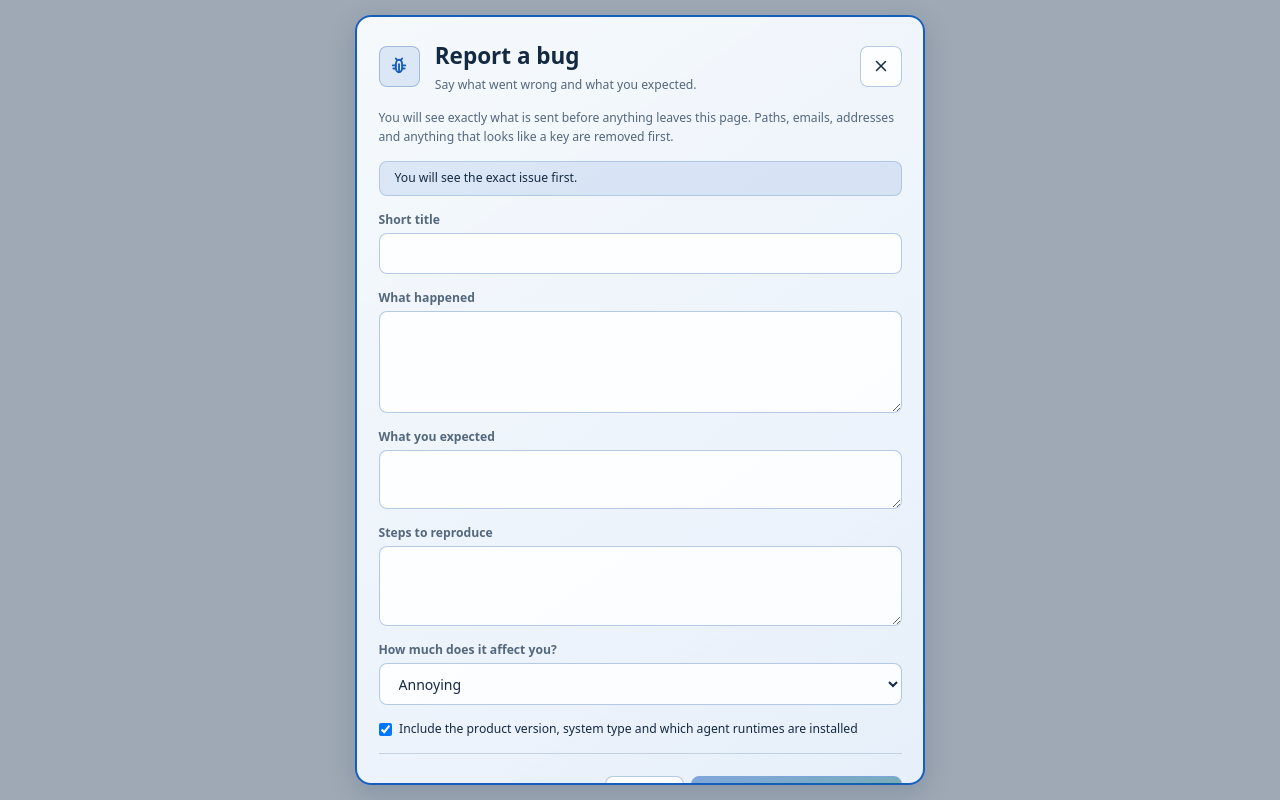
Test: shows how the report will be sent and sends nothing until the person previews and confirms
The width and height of the screenshot is (1280, 800).
In the field labelled "Short title": point(640, 254) [378,233,902,274], type "Delete is greyed out"
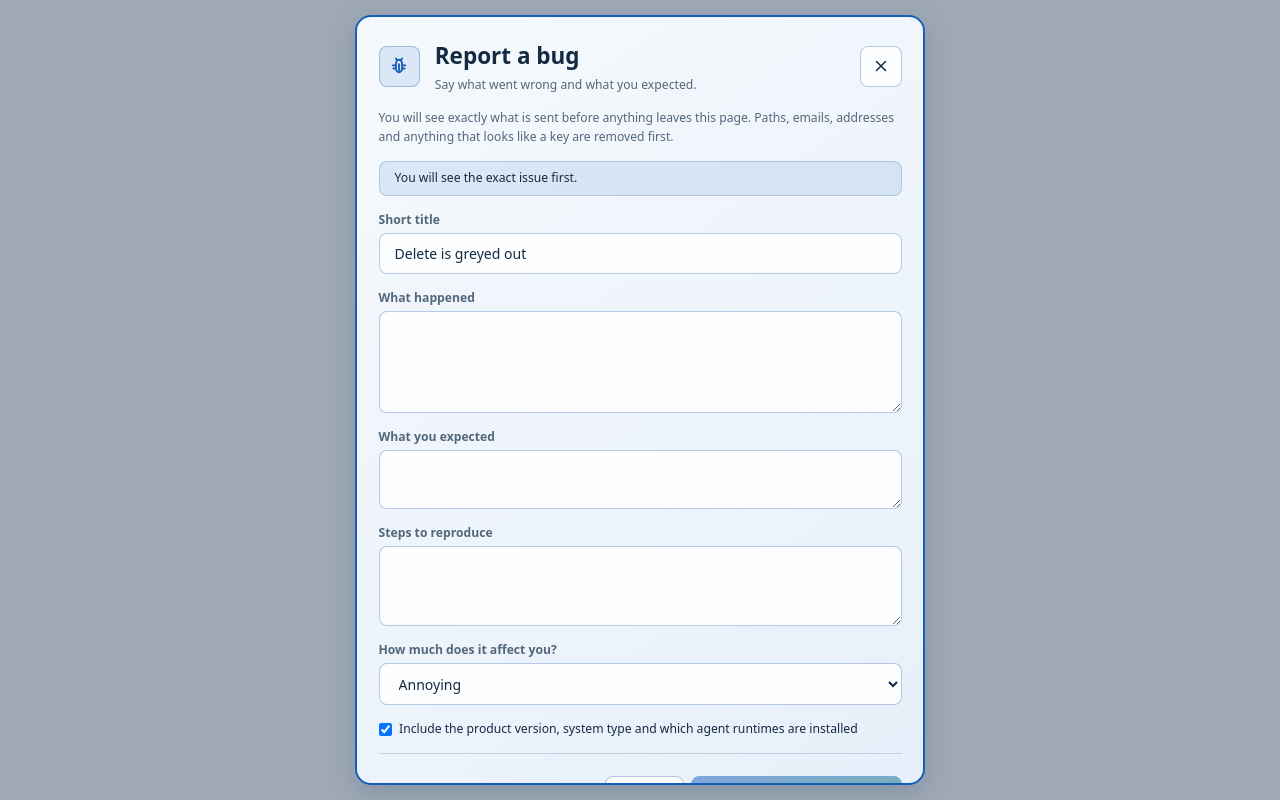
In the text box labelled "What happened": point(640, 362) [378,311,902,413], type "The button is disabled."
(page scrolled)
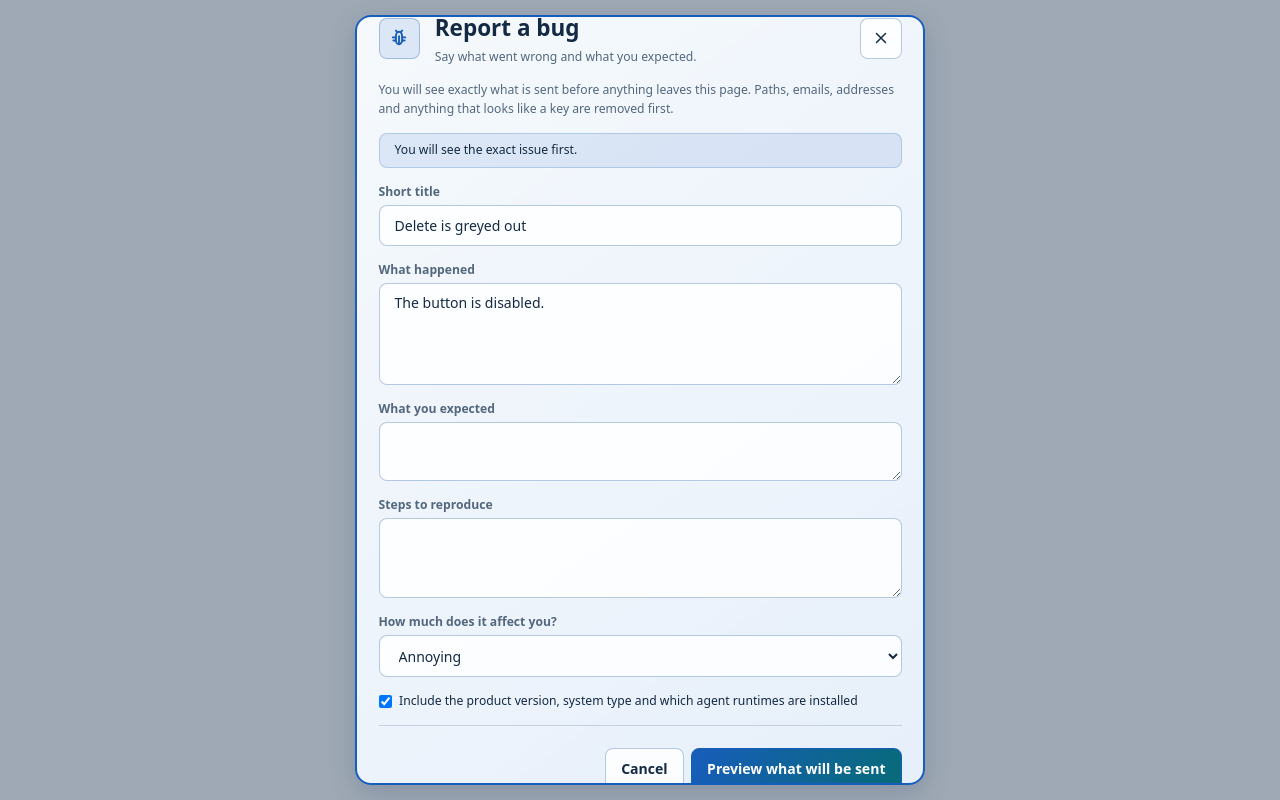
Submit the form
(page scrolled)
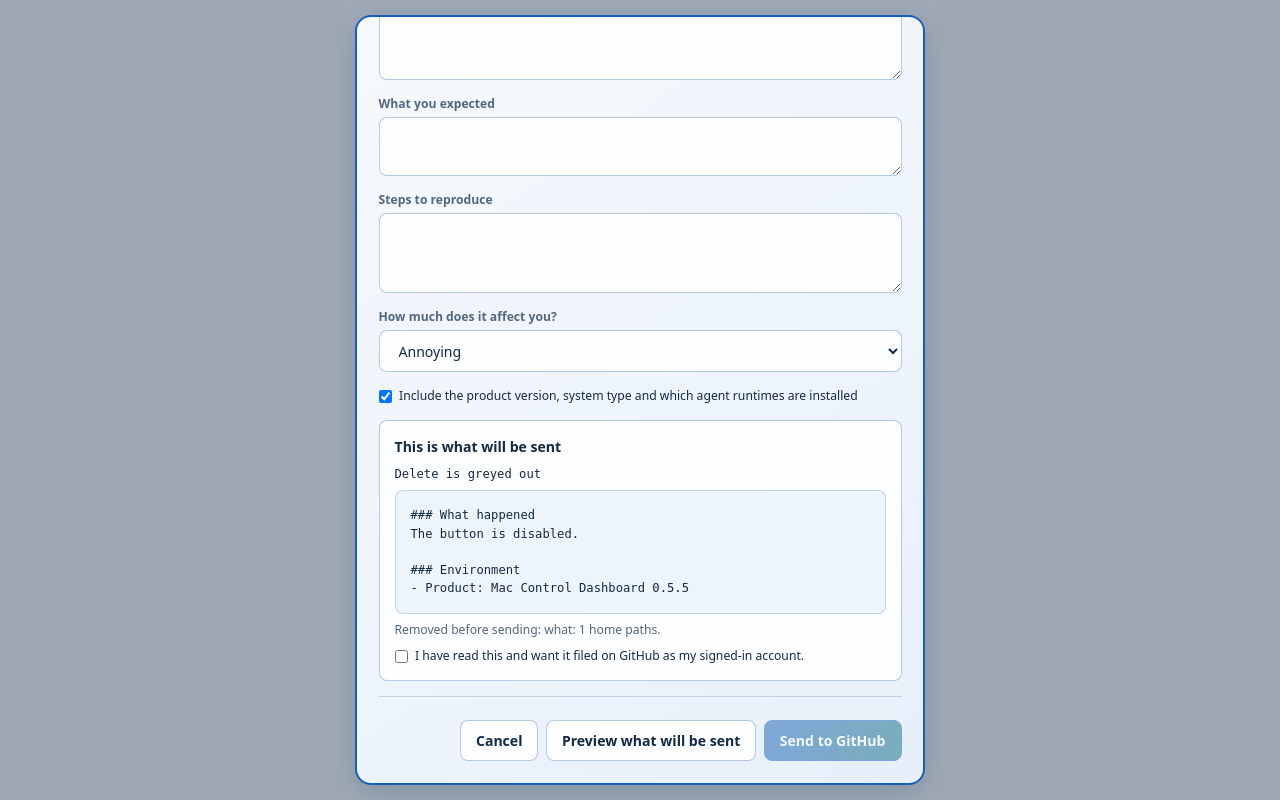
Check: the text with test id "bug-preview-body" shows "### Environment", box [410,508,689,595]
Check: the text with test id "bug-scrubbed" shows "1 home paths", box [394,621,661,638]
Check: the button "Send to GitHub" is disabled, box [764,720,902,761]
Click the 2nd checkbox: point(401, 656) [394,650,408,663]
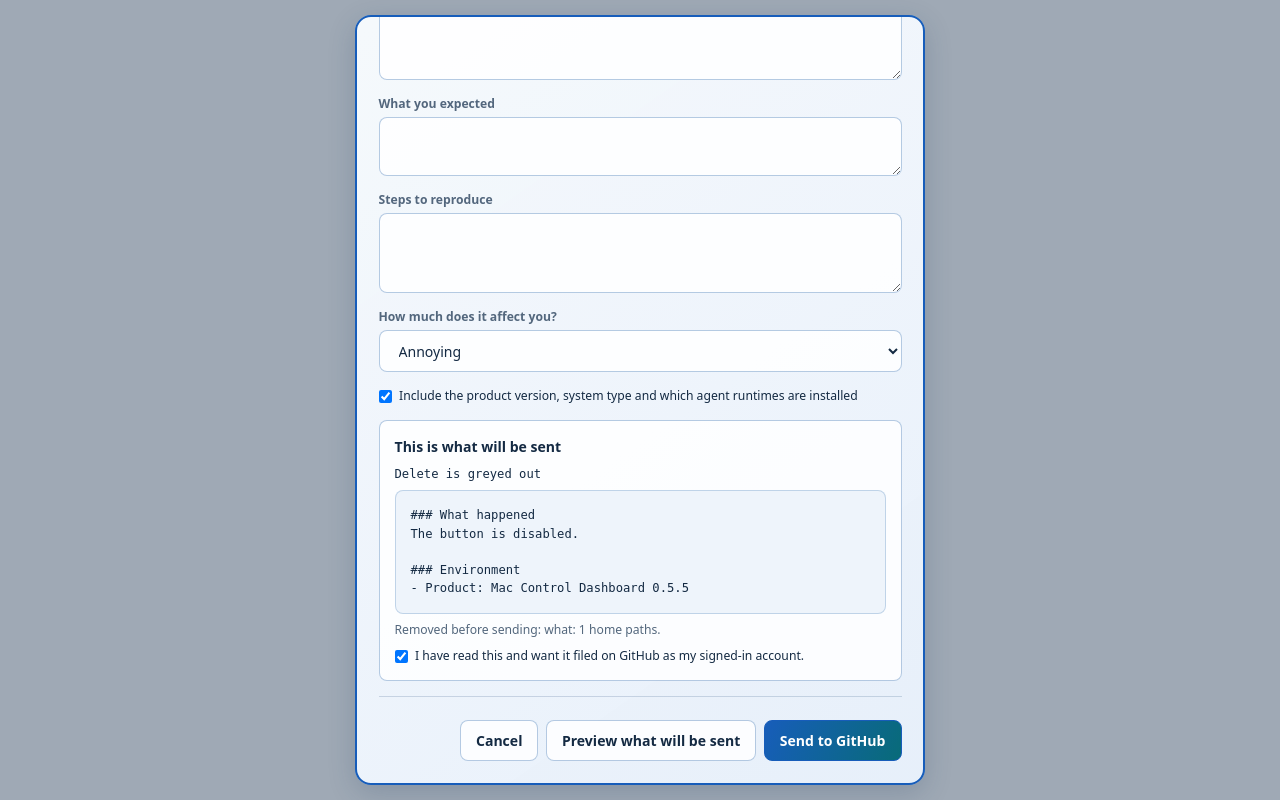
Click the button "Send to GitHub": point(833, 740) [764,720,902,761]
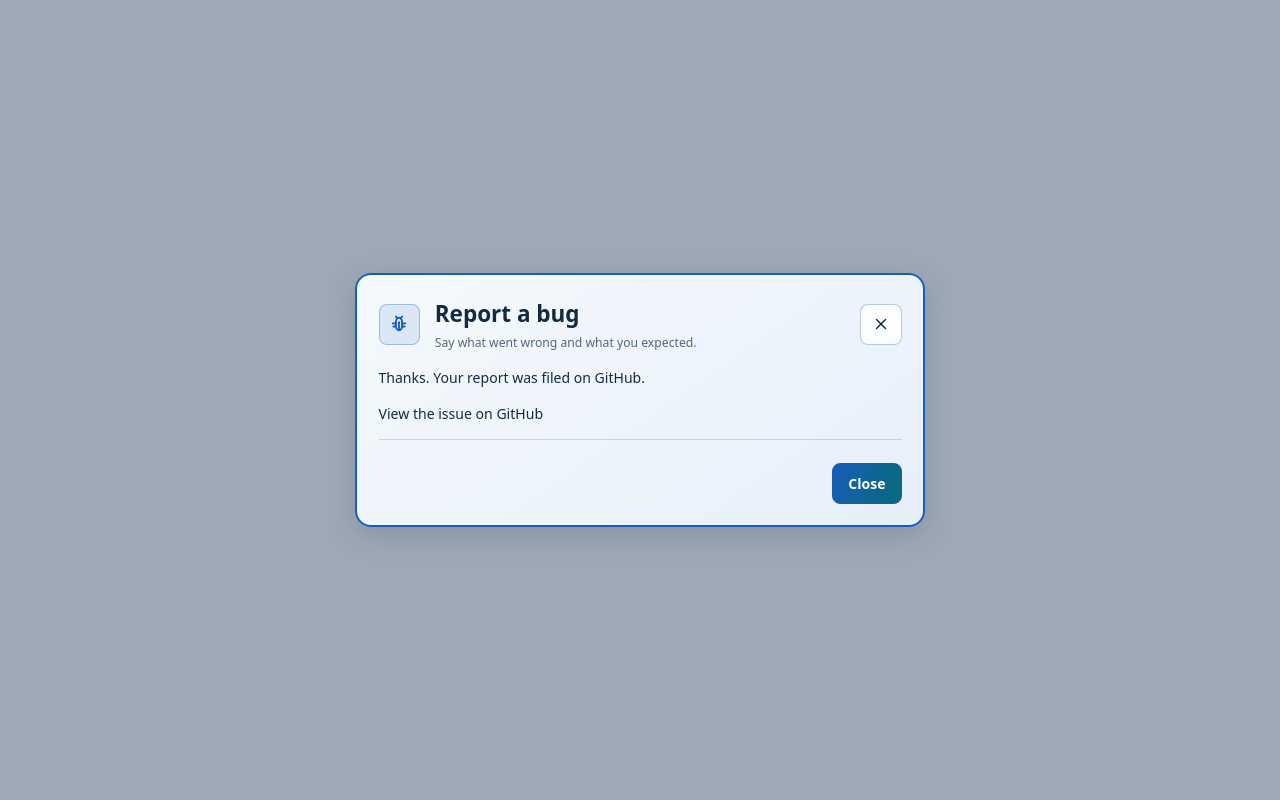
Check: the text "Your report was filed on GitHub" is shown, box [378,368,645,387]
